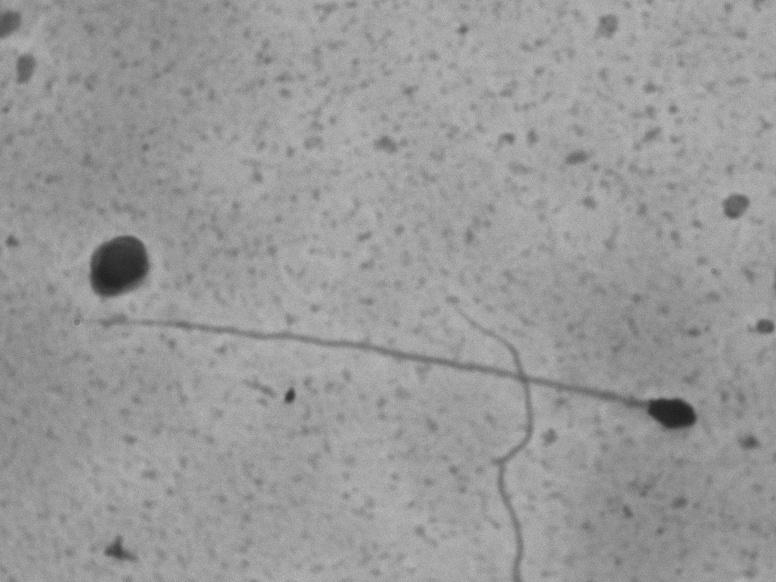Abnormal: (64, 316, 702, 440)
